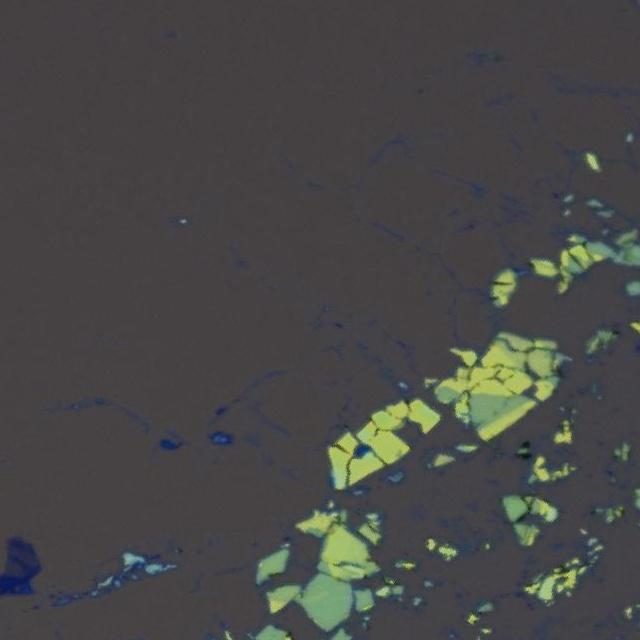monolayer-eWW4: (0, 544, 38, 568), (2, 560, 25, 578)
